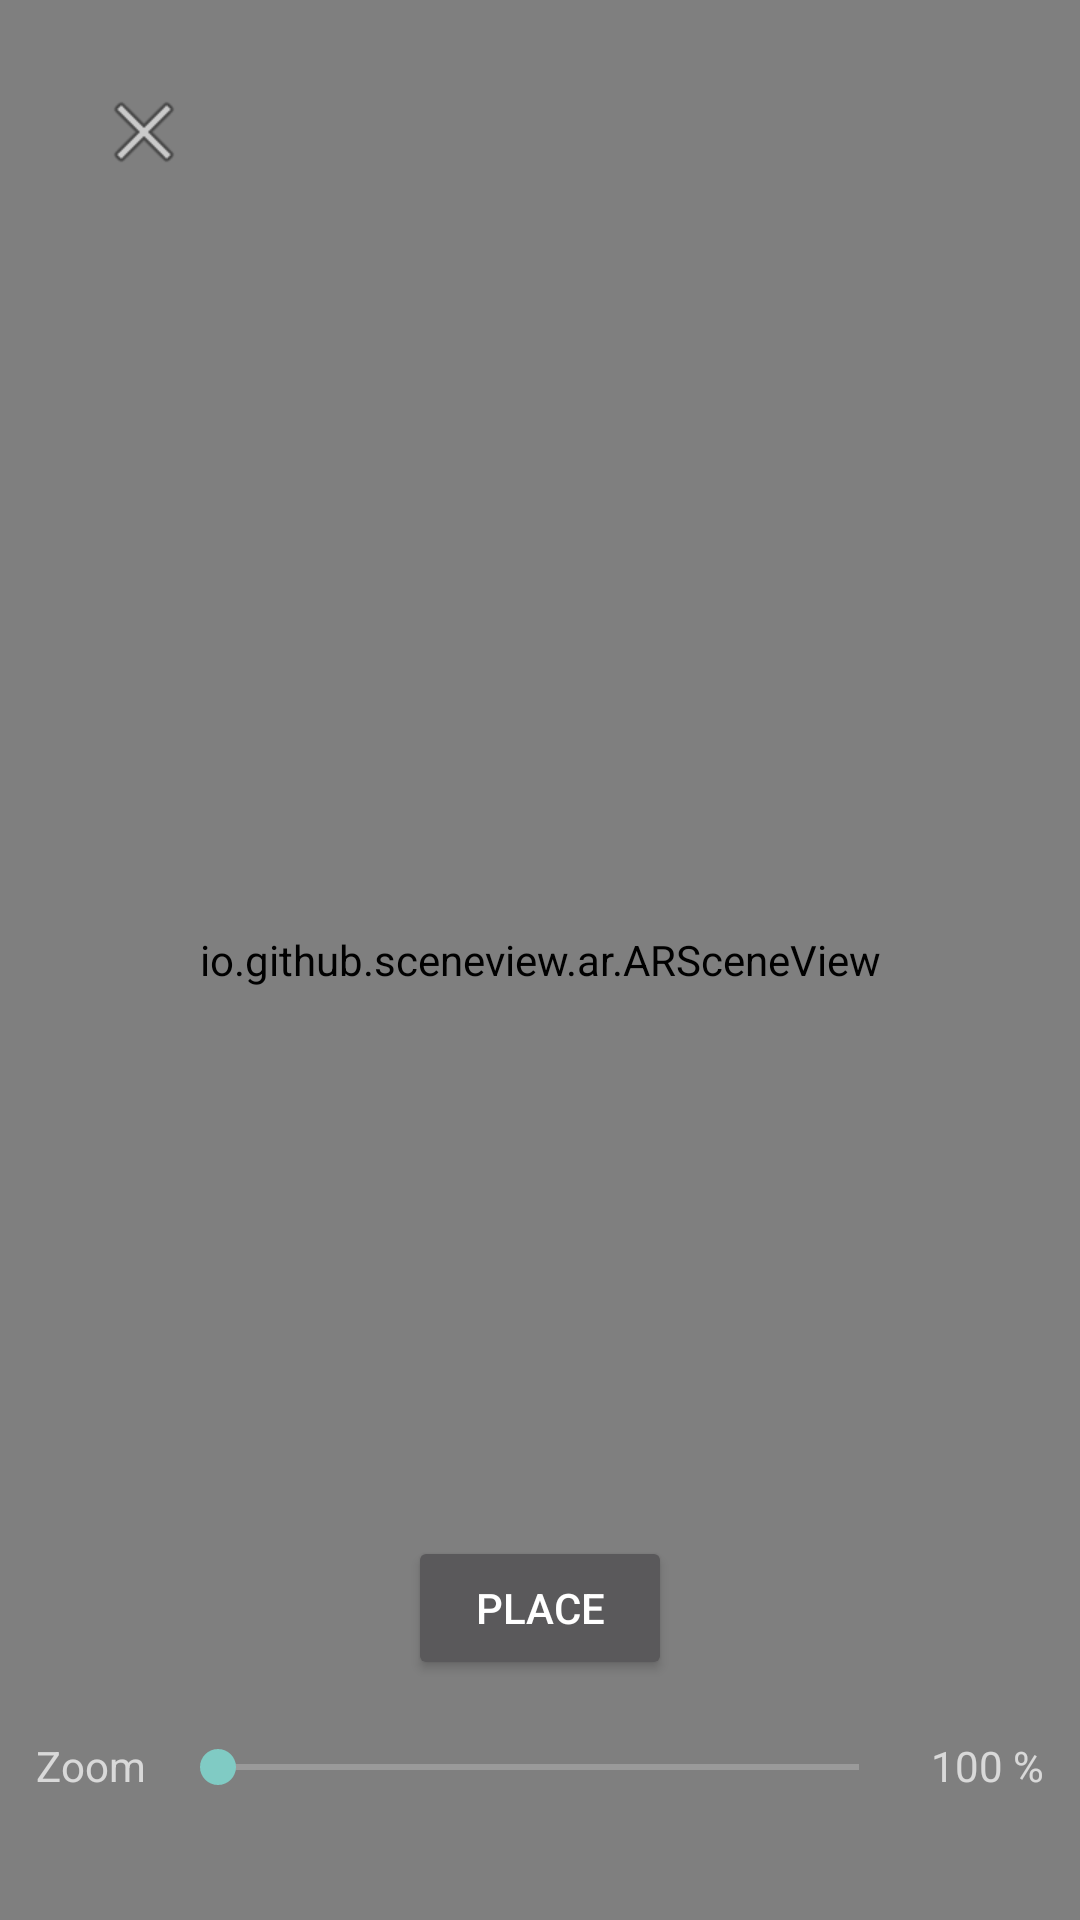

Icon bounding boxes for this 1080×1920 phone screenshot, format (x1, y1, x2, y2):
close clear cancel: (114, 102, 174, 162)
